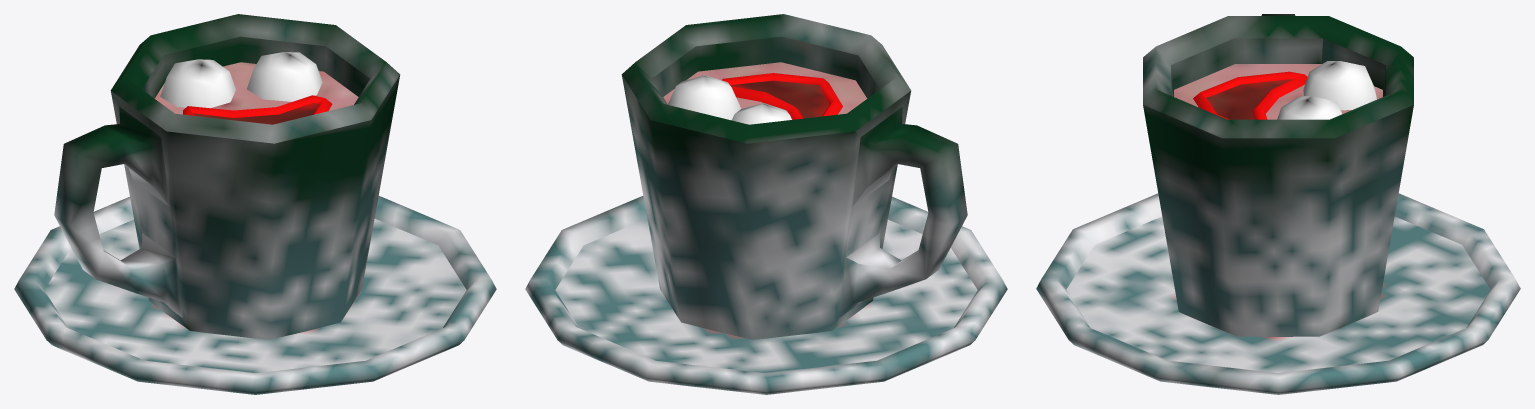
The model's file is Espresso.fbx.
3 renders of one model, left to right at view 1: azimuth 30°, elevation 25°; view 2: azimuth 150°, elevation 25°; view 3: azimuth 270°, elevation 25°, orthographic.
Visible parts, largest first — view 1: Cylinder.001; view 2: Cylinder.001; view 3: Cylinder.001.
Boxes of the visible parts, bbox=[...] form: Cylinder.001: bbox=[14, 14, 496, 394]; Cylinder.001: bbox=[525, 14, 1007, 394]; Cylinder.001: bbox=[1036, 14, 1520, 394].
Size of the model in its own units: 28.92 by 16.78 by 28.92.
